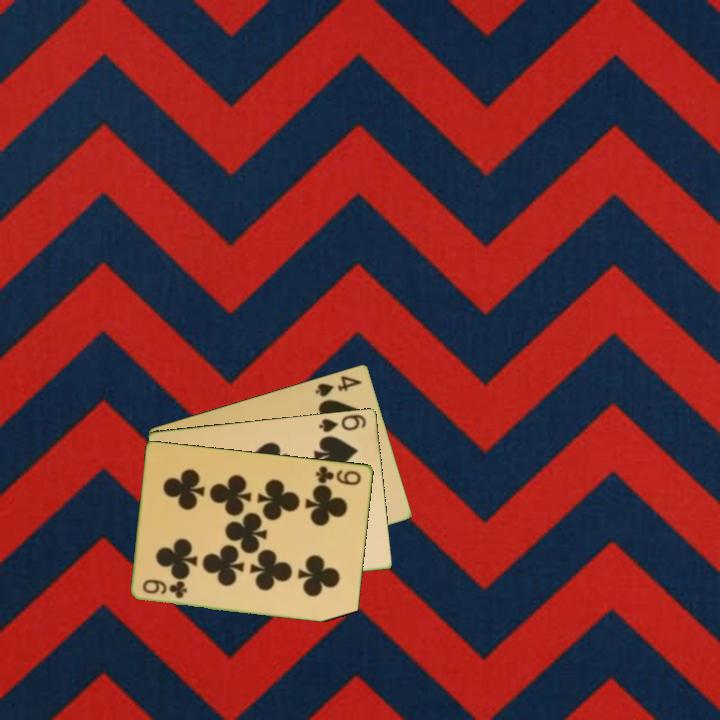4s: (312, 372, 365, 399)
6s: (315, 410, 369, 435)
9c: (312, 462, 364, 488), (139, 576, 190, 601)
